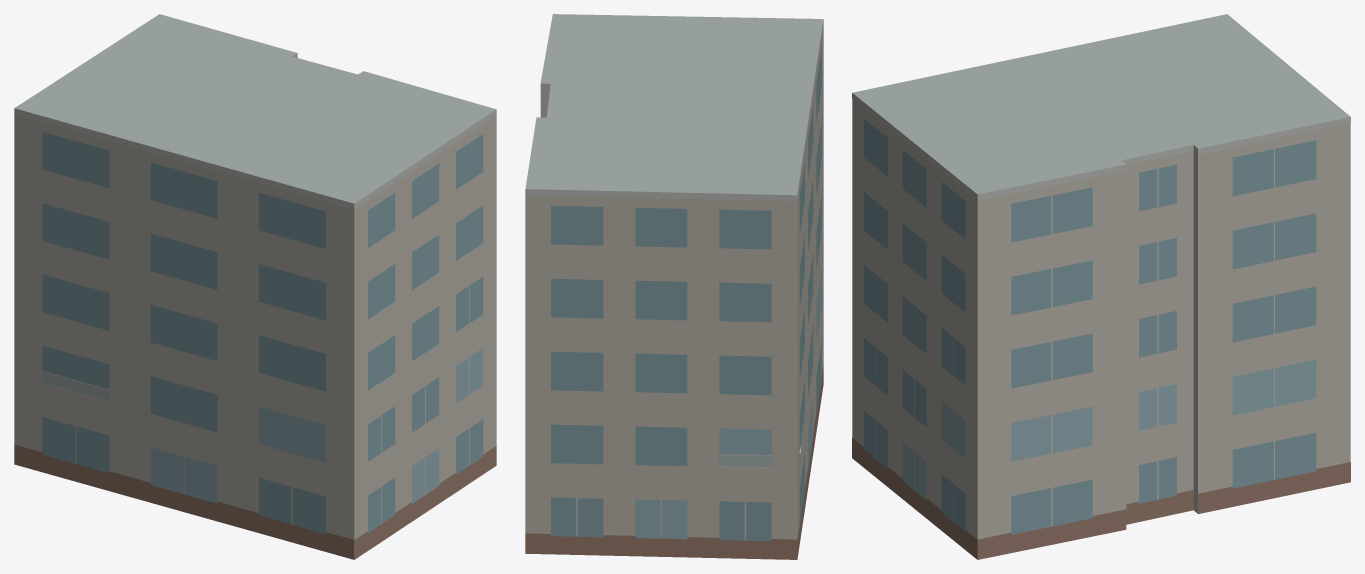
File: survey-upis-32837263.glb
The picture shows the model from 3 angles, left to right: view 1: azimuth 30°, elevation 25°; view 2: azimuth 150°, elevation 25°; view 3: azimuth 270°, elevation 25°; orthographic projection. The views are drawn at different scales.
Parts seen in each view (by area): view 1: survey-upis-32837263.tmp; view 2: survey-upis-32837263.tmp; view 3: survey-upis-32837263.tmp.
Boxes of the visible parts, box(x1,y1,x2,y2) form: survey-upis-32837263.tmp: box(14, 14, 496, 559); survey-upis-32837263.tmp: box(525, 14, 823, 559); survey-upis-32837263.tmp: box(852, 14, 1350, 559).
Size of the model in its own units: 15.37 by 14.5 by 17.94.
